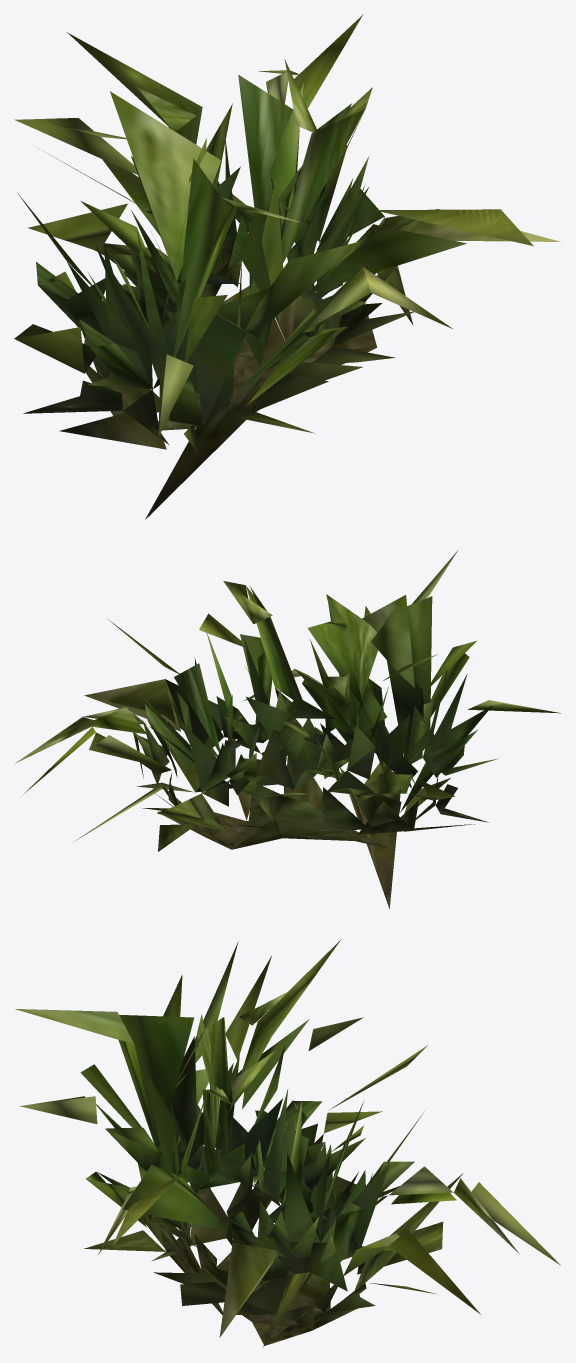
The model's file is grass_tuft_1_lite.glb.
3 views of the same model, one above another, from view 1: azimuth 30°, elevation 25°; view 2: azimuth 150°, elevation 25°; view 3: azimuth 270°, elevation 25° (orthographic). The views are drawn at different scales.
Parts seen in each view (by area): view 1: tripo_node_7ac3d90a-8751-476c-9687-198a5a3f9aa1.002; view 2: tripo_node_7ac3d90a-8751-476c-9687-198a5a3f9aa1.002; view 3: tripo_node_7ac3d90a-8751-476c-9687-198a5a3f9aa1.002.
Boxes of the visible parts, box(x1,y1,x2,y2) form: tripo_node_7ac3d90a-8751-476c-9687-198a5a3f9aa1.002: box(14, 14, 560, 519); tripo_node_7ac3d90a-8751-476c-9687-198a5a3f9aa1.002: box(15, 550, 560, 908); tripo_node_7ac3d90a-8751-476c-9687-198a5a3f9aa1.002: box(15, 939, 560, 1347).
Size of the model in its own units: 0.4882 by 0.3814 by 0.5006.
Materials: 1 (1 with a texture image).
